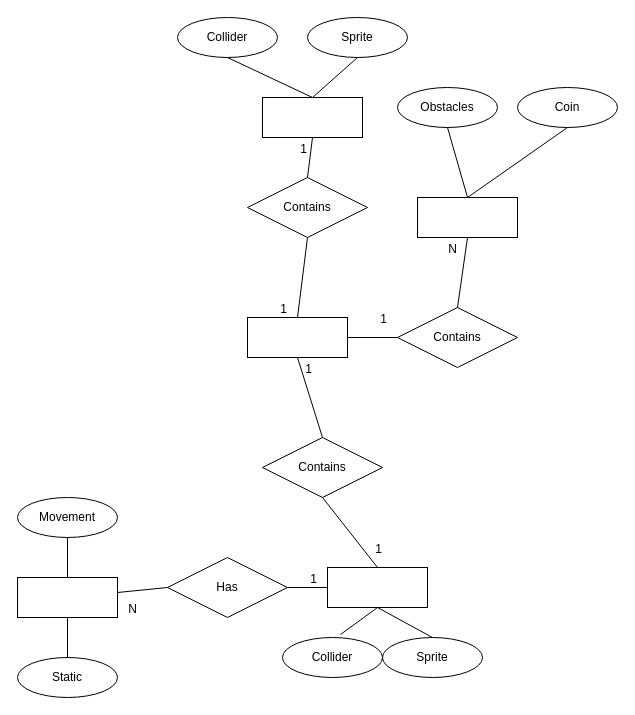
Some shapes in this 635 by 715 pixel diagram are drawn without their labels. The box of each missing label's shape, as (x1, y1, x2, y2) in pixels:
Ai: (262, 96, 362, 138)
Animations: (16, 576, 118, 618)
Player: (326, 566, 428, 608)
Spawners: (416, 196, 518, 238)
World: (246, 316, 348, 358)
